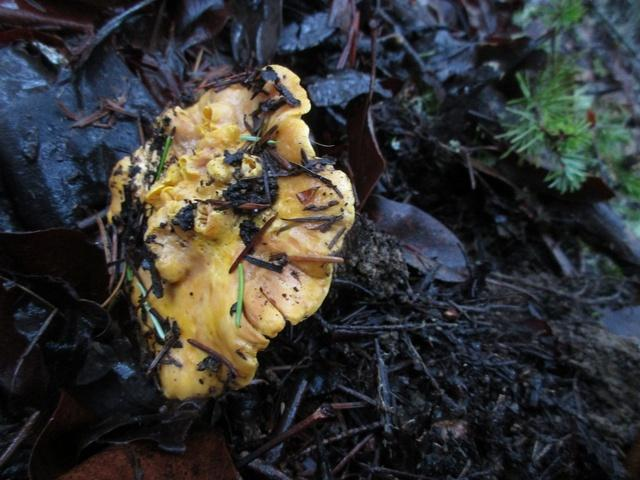edible_mushroom: (105, 62, 356, 401)
